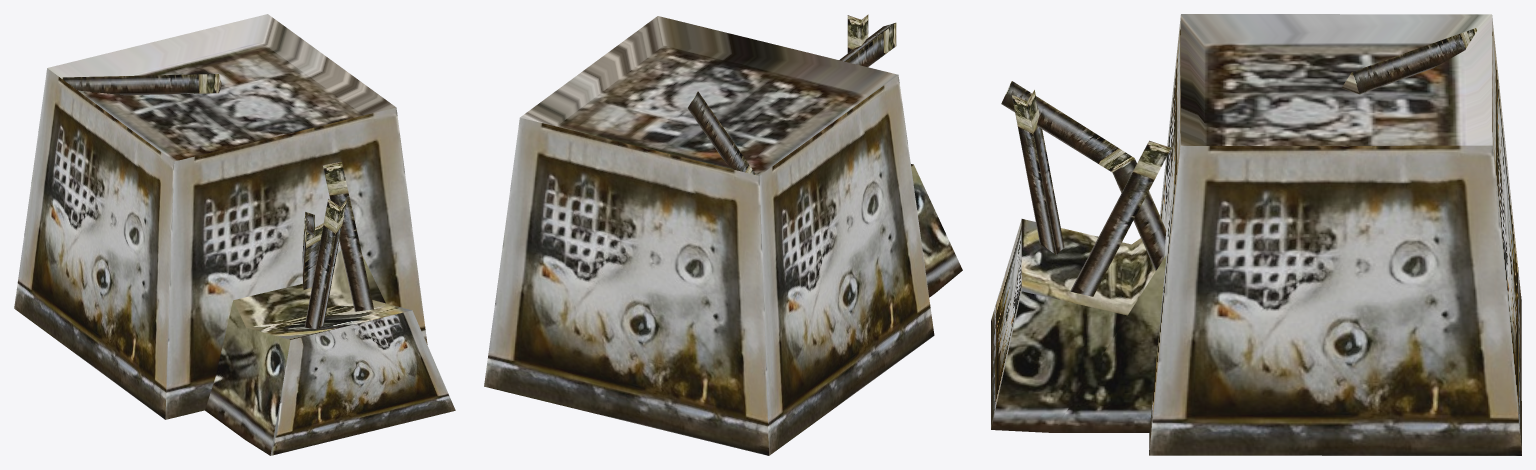
File: d_lightwall_dam_hdtex.glb
The picture shows the model from 3 angles, left to right: view 1: azimuth 30°, elevation 25°; view 2: azimuth 150°, elevation 25°; view 3: azimuth 270°, elevation 25°; orthographic projection. The views are drawn at different scales.
Visible parts, largest first — view 1: DavionLightwall_damaged; view 2: DavionLightwall_damaged; view 3: DavionLightwall_damaged.
Boxes of the visible parts, x1=… form: DavionLightwall_damaged: x1=14, y1=14, x2=455, y2=455; DavionLightwall_damaged: x1=484, y1=14, x2=962, y2=455; DavionLightwall_damaged: x1=991, y1=14, x2=1521, y2=455.
Size of the model in its own units: 4.54 by 4.16 by 6.5.
1 material, 1 textured.
